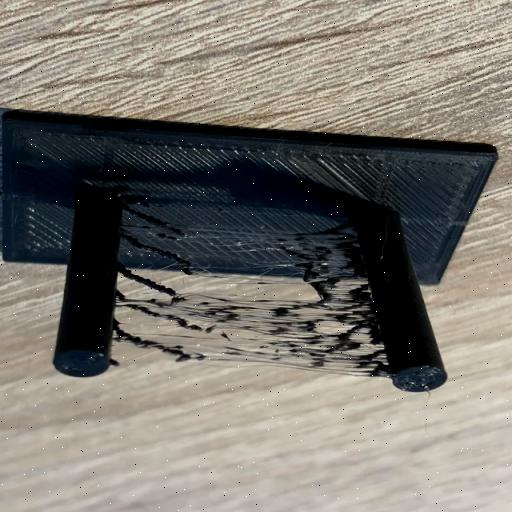stringing: (109, 198, 394, 373)
